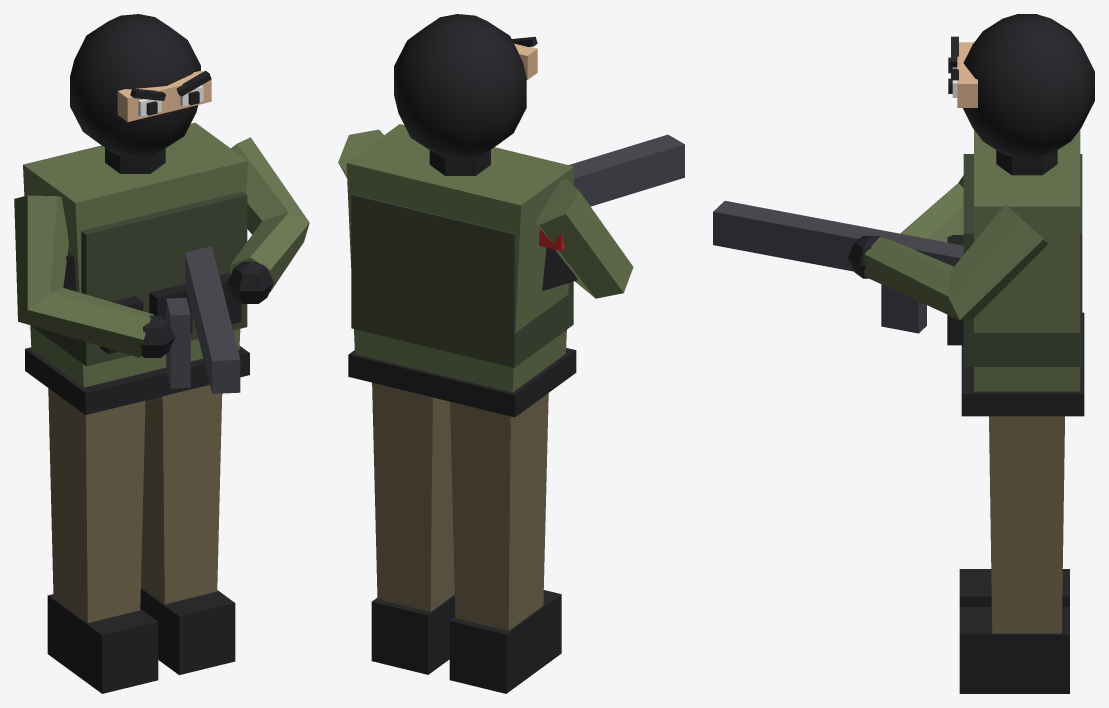
File: e_terrorist.glb
The picture shows the model from 3 angles, left to right: view 1: azimuth 30°, elevation 25°; view 2: azimuth 150°, elevation 25°; view 3: azimuth 270°, elevation 25°; orthographic projection.
Visible parts, largest first — view 1: terrorist; view 2: terrorist; view 3: terrorist.
Part boxes in pixels (x1=…): terrorist: x1=14, y1=14, x2=309, y2=693; terrorist: x1=338, y1=14, x2=684, y2=693; terrorist: x1=713, y1=14, x2=1094, y2=693.
Bounding box in the file's own units: 0.7853 × 1.73 × 0.9328.
